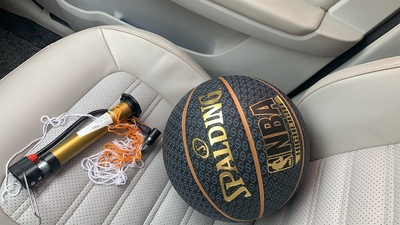ball: (161, 74, 314, 225)
